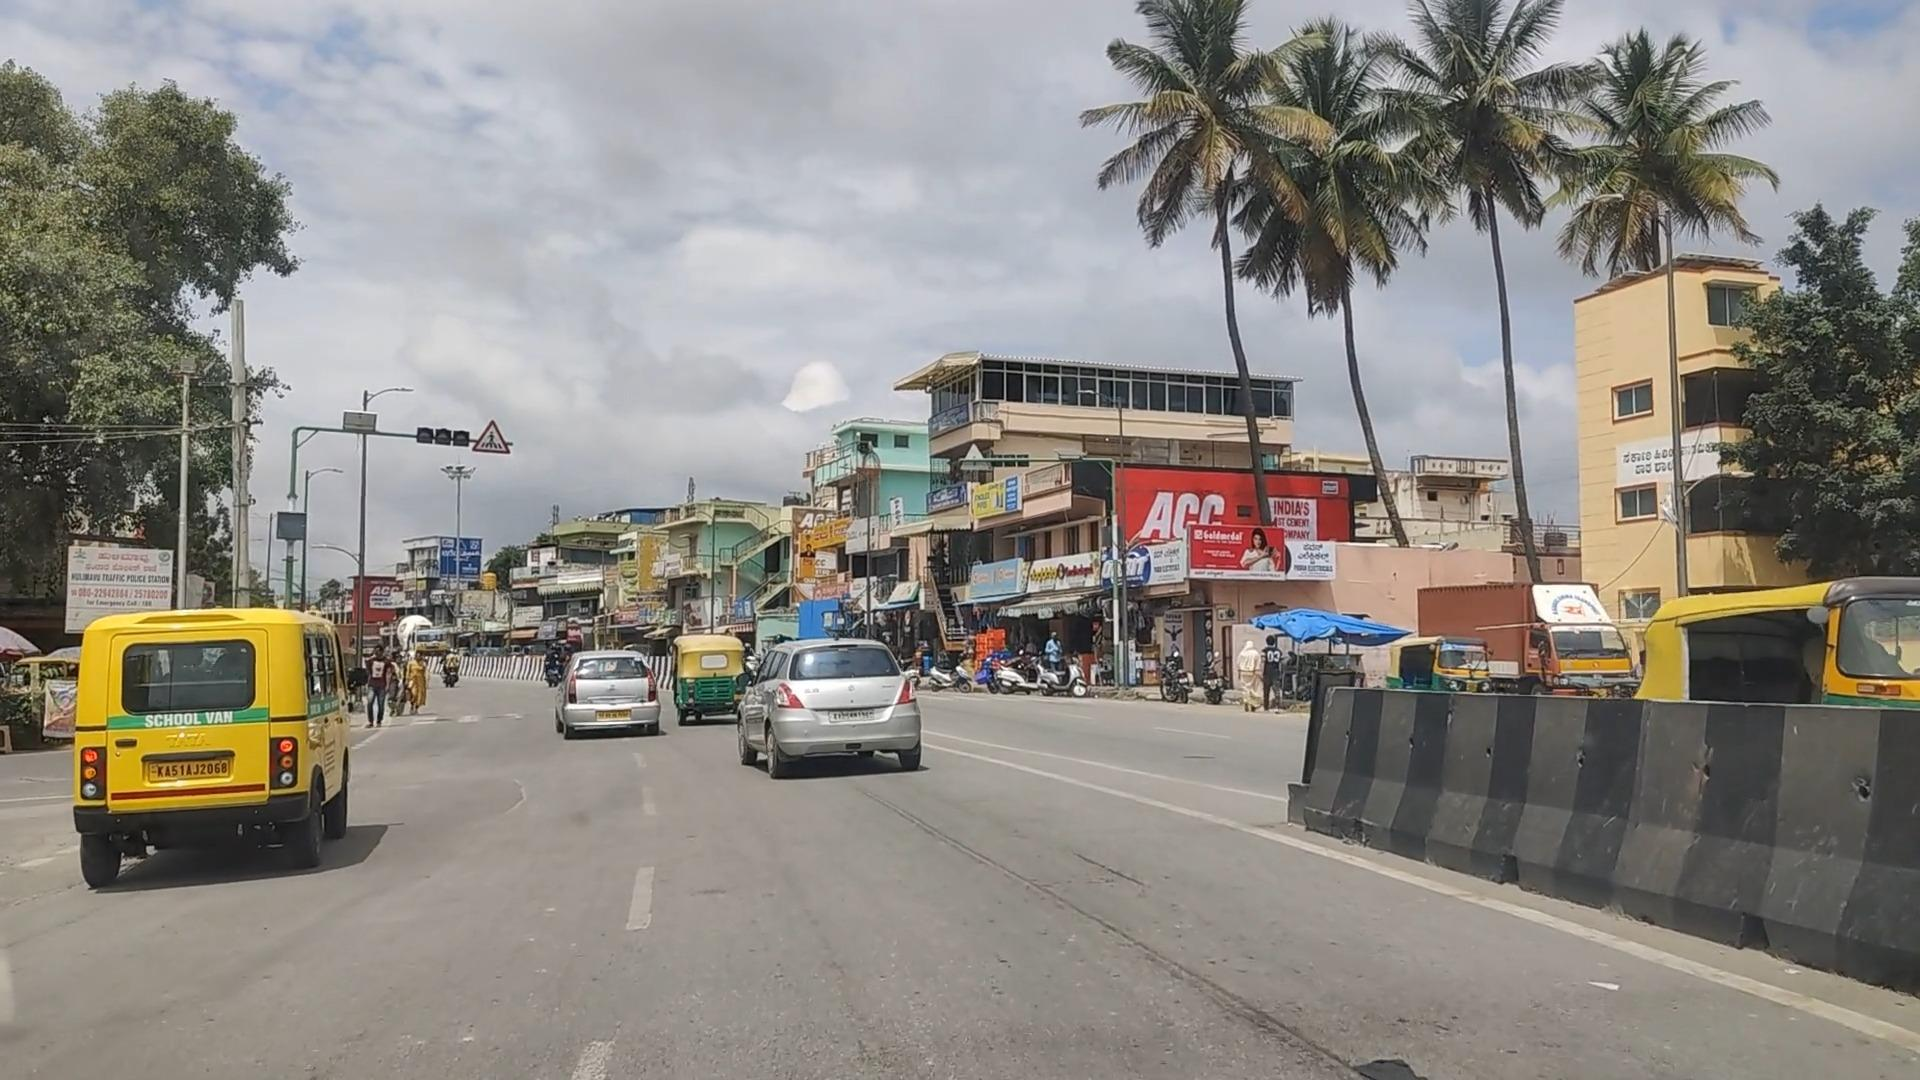LMV: (58, 567, 393, 903), (733, 595, 923, 810), (538, 628, 675, 758), (667, 608, 773, 740)
